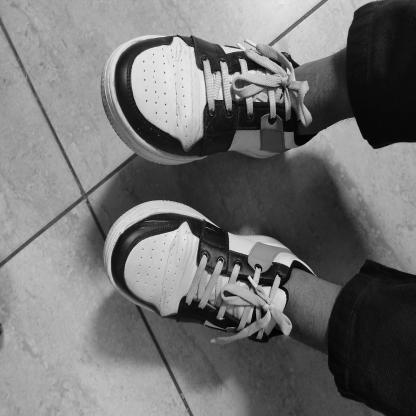ankle: (276, 279, 280, 283), (292, 134, 295, 139)
heel: (260, 154, 264, 158), (273, 240, 276, 244)
left_foot: (104, 200, 316, 343)
pinky: (151, 40, 155, 46), (135, 299, 138, 303)
right_foot: (102, 36, 318, 165)
toe: (132, 121, 137, 128), (128, 229, 132, 233)
